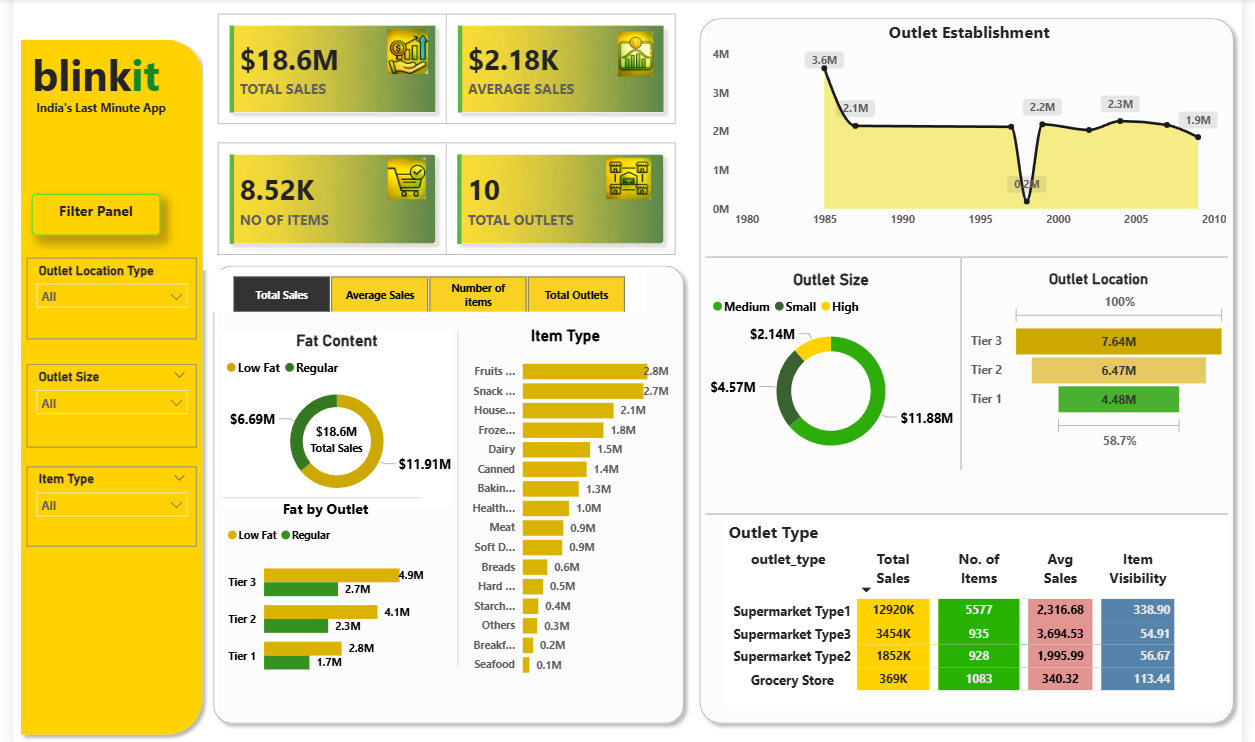

Layout of this report page (visuals, bound fields, positions):
{"tool":"powerbi","page":{"name":"Page 1","canvas":[1400,850],"ordinal":0},"visuals":[{"type":"shape","box":[0,37,225,810.4],"z":0},{"type":"textbox","box":[0,48.3,189,80.4],"z":1000},{"type":"textbox","box":[21.4,109.9,163.5,36.2],"z":2000},{"type":"cardVisual","fields":{"Data":["blinkit blinkit_grocery.Total Sales","blinkit blinkit_grocery.Average Sales"]},"box":[216.5,0,556.9,159.5],"z":3000},{"type":"cardVisual","fields":{"Data":["blinkit blinkit_grocery.Number of items","blinkit blinkit_grocery.Total Outlets"]},"box":[216.5,146.7,556.9,162.4],"z":4000},{"type":"shape","box":[219.3,294.8,554,539.8],"z":5000},{"type":"image","box":[669.4,180.9,64.1,47],"z":6000},{"type":"image","box":[390.3,180.9,116.8,47],"z":7000},{"type":"image","box":[507,37,404.5,51.3],"z":8000},{"type":"image","box":[356.1,34.2,186.6,51.3],"z":9000},{"type":"donutChart","title":"Fat Content","fields":{"Y":["blinkit blinkit_grocery.Total Sales"],"Category":["blinkit blinkit_grocery.item_fat_content"]},"box":[237.3,379.4,262.7,199.7],"z":10000},{"type":"slicer","fields":{"Values":["Metrics.Metrics"]},"box":[225.2,309.7,496,46.9],"z":11000},{"type":"cardVisual","fields":{"Data":["blinkit blinkit_grocery.Total Sales"]},"box":[300.3,466.5,136.7,69.7],"z":12000},{"type":"clusteredBarChart","title":"Fat by Outlet","fields":{"Y":["blinkit blinkit_grocery.Total Sales"],"Category":["blinkit blinkit_grocery.outlet_location_type"],"Series":["blinkit blinkit_grocery.item_fat_content"]},"box":[239.3,569.7,233.6,217.9],"z":13000},{"type":"shape","box":[239.3,558.3,226.5,19.9],"z":14000},{"type":"shape","box":[488.5,378.9,37,381.7],"z":15000},{"type":"barChart","title":"Item Type","fields":{"Y":["blinkit blinkit_grocery.Total Sales"],"Category":["blinkit blinkit_grocery.item_type"]},"box":[507,373.2,245,408.8],"z":16000},{"type":"shape","box":[773.4,12.8,626.7,821.8],"z":17000},{"type":"lineChart","title":"Outlet Establishment","fields":{"Y":["blinkit blinkit_grocery.Total Sales"],"Category":["blinkit blinkit_grocery.outlet_establishment_year"]},"box":[791.9,24.2,595.3,245],"z":18000},{"type":"donutChart","title":"Outlet Size","fields":{"Y":["blinkit blinkit_grocery.Total Sales"],"Category":["blinkit blinkit_grocery.outlet_size"]},"box":[791.9,309.1,280.6,225],"z":19000},{"type":"funnel","title":"Outlet Location","fields":{"Y":["Sum(blinkit blinkit_grocery.item_outlet_sales)"],"Category":["blinkit blinkit_grocery.outlet_location_type"]},"box":[1086.7,309.1,300.5,209.4],"z":20000},{"type":"pivotTable","title":"Outlet Type","fields":{"Rows":["blinkit blinkit_grocery.outlet_type"],"Values":["blinkit blinkit_grocery.Total Sales","blinkit blinkit_grocery.Number of items","blinkit blinkit_grocery.Average Sales","Sum(blinkit blinkit_grocery.item_visibility)"]},"box":[810.4,593.9,574,210.8],"z":21000},{"type":"shape","box":[789,269.2,595.3,49.8],"z":22000},{"type":"shape","box":[1073.9,294.8,12.8,242.1],"z":23000},{"type":"shape","box":[789,558.3,595.3,57],"z":24000},{"type":"slicer","fields":{"Values":["blinkit blinkit_grocery.outlet_location_type"]},"box":[15.7,294.8,193.7,92.6],"z":25000},{"type":"slicer","fields":{"Values":["blinkit blinkit_grocery.outlet_size"]},"box":[15.7,415.9,193.7,95.4],"z":26000},{"type":"slicer","fields":{"Values":["blinkit blinkit_grocery.item_type"]},"box":[15.7,532.7,193.7,91.2],"z":27000},{"type":"textbox","box":[21.4,222.2,146.7,47],"z":28000}]}

Visuals, with their boxes in screenshot pixels (x1, y1, x2, y2), scaled from the page's 1400x850 canvas onto the 1255x742 screenshot:
shape: 0/32/202/740
textbox: 0/42/169/112
textbox: 19/96/166/128
cardVisual - blinkit blinkit_grocery.Total Sales x blinkit blinkit_grocery.Average Sales: 194/0/693/139
cardVisual - blinkit blinkit_grocery.Number of items x blinkit blinkit_grocery.Total Outlets: 194/128/693/270
shape: 197/257/693/729
image: 600/158/658/199
image: 350/158/455/199
image: 454/32/817/77
image: 319/30/486/75
"Fat Content" donutChart: 213/331/448/506
slicer - Metrics.Metrics: 202/270/647/311
cardVisual - blinkit blinkit_grocery.Total Sales: 269/407/392/468
"Fat by Outlet" clusteredBarChart: 215/497/424/688
shape: 215/487/418/505
shape: 438/331/471/664
"Item Type" barChart: 454/326/674/683
shape: 693/11/1254/729
"Outlet Establishment" lineChart: 710/21/1244/235
"Outlet Size" donutChart: 710/270/961/466
"Outlet Location" funnel: 974/270/1244/453
"Outlet Type" pivotTable: 726/518/1241/702
shape: 707/235/1241/278
shape: 963/257/974/469
shape: 707/487/1241/537
slicer - blinkit blinkit_grocery.outlet_location_type: 14/257/188/338
slicer - blinkit blinkit_grocery.outlet_size: 14/363/188/446
slicer - blinkit blinkit_grocery.item_type: 14/465/188/545
textbox: 19/194/151/235
